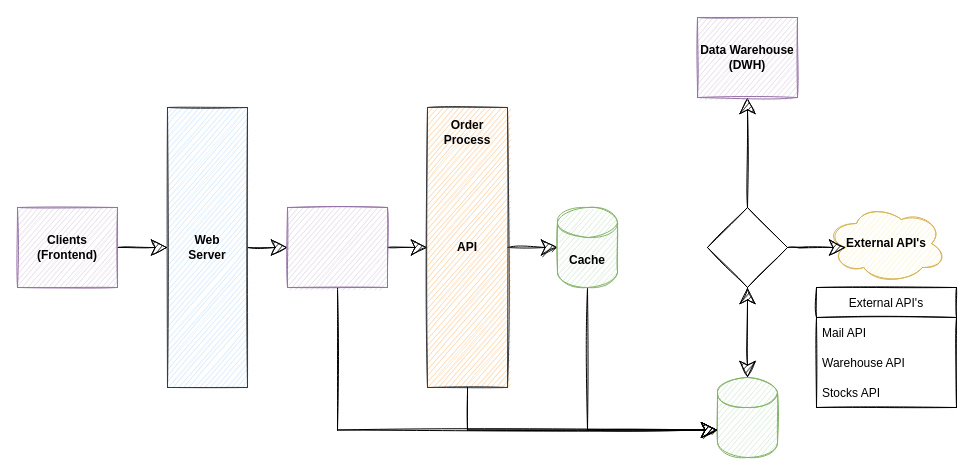
Image size: 974x475. Some labels were removed from this diagram. Each missing label, with the centre of its shape:
Authentication: the point at 337,247
Batch Process: the point at 747,247
DB: the point at 747,417
